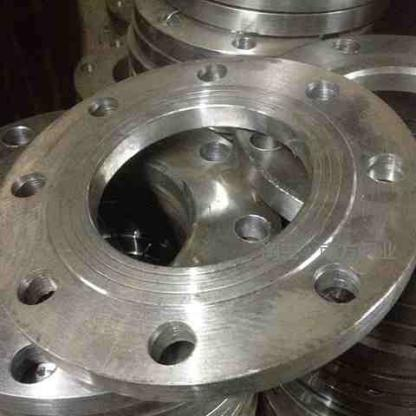FOD: (3, 54, 415, 402)
